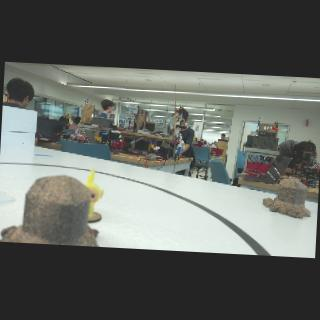teletubby: (84, 169, 103, 217)
